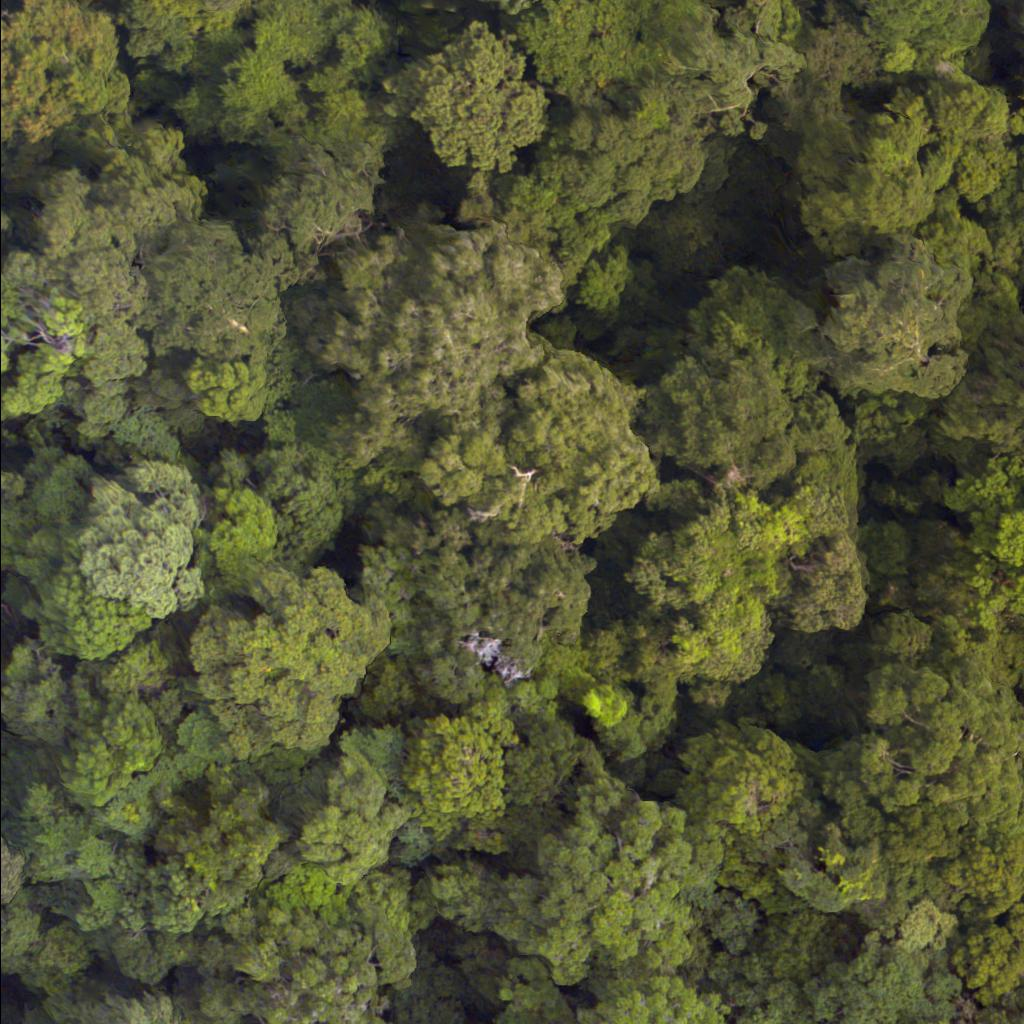crown: (320, 178, 572, 413), (398, 348, 646, 556), (459, 770, 704, 979), (363, 526, 593, 726), (802, 72, 1017, 237), (183, 567, 383, 743), (665, 704, 830, 917), (641, 282, 817, 480), (391, 17, 567, 193), (809, 235, 961, 406), (539, 988, 712, 1023), (0, 822, 29, 938), (94, 1010, 228, 1023)
